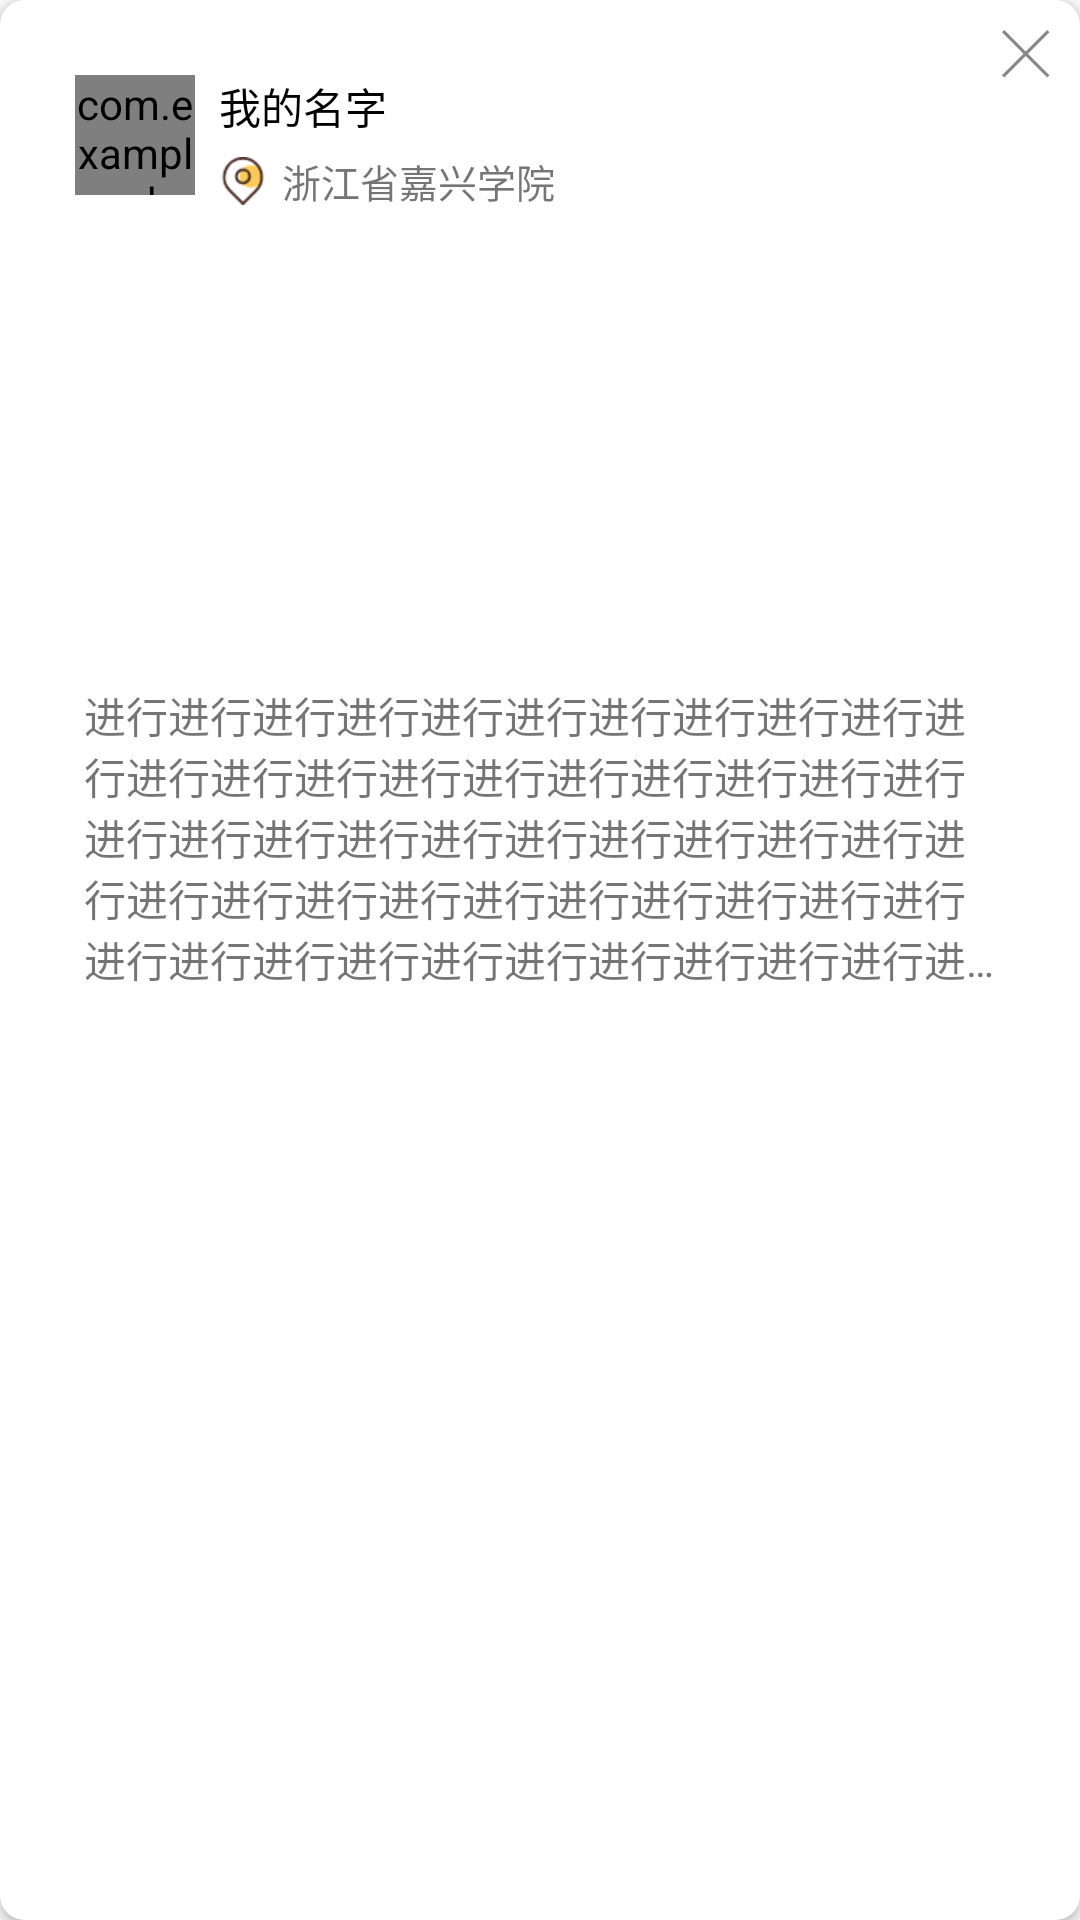

Screen size 1080x1920. Icon name, then its center in pixels as point (x, y):
close: point (1025, 54)
